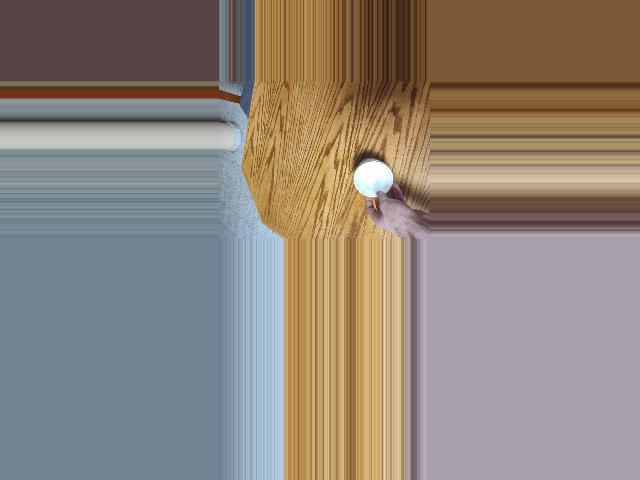cotage: (344, 158, 395, 204)
